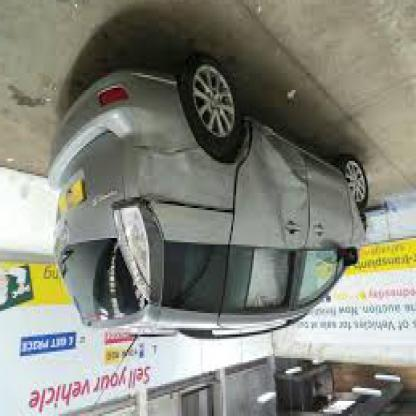dent: (263, 147, 304, 185), (280, 208, 289, 247)
